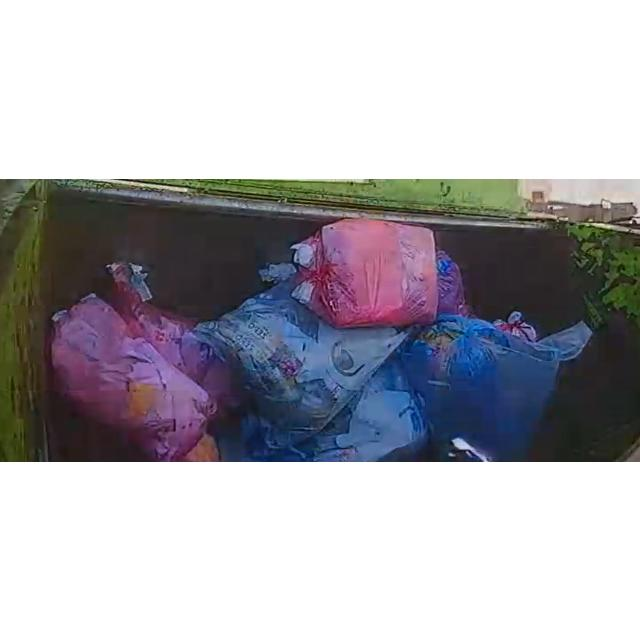other_trashbag: (196, 280, 406, 429), (402, 314, 591, 460), (51, 294, 212, 460), (106, 260, 245, 414), (242, 352, 429, 461), (292, 218, 438, 327), (437, 249, 469, 315)
